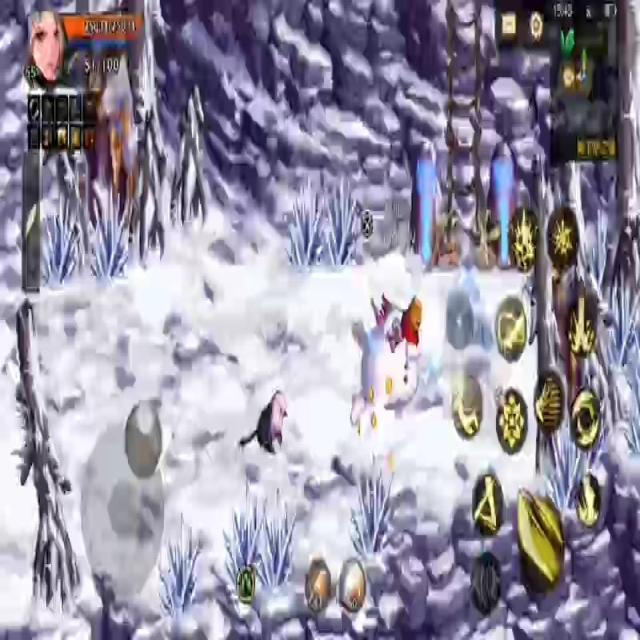player: (348, 290, 424, 440)
